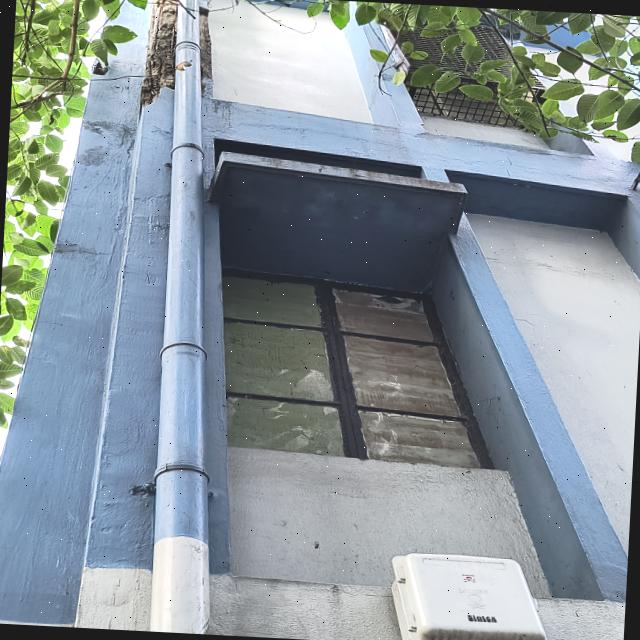spalling: (140, 0, 177, 107), (200, 10, 211, 78)
